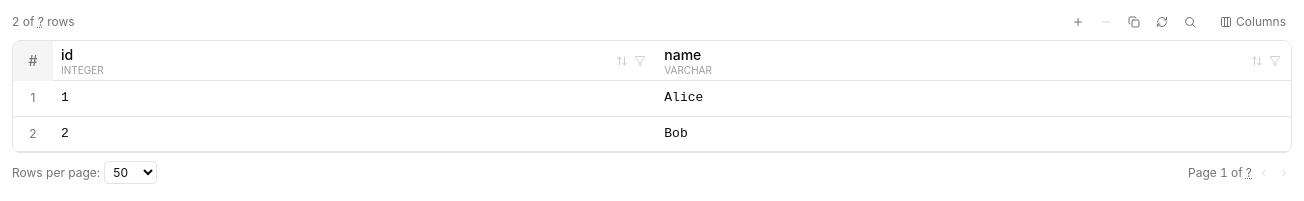
Test: DataTable › row selection › clicking row index cell selects the row
Click the 1st cell titled "Click to select" at point(33, 99), box [13,81,53,116]
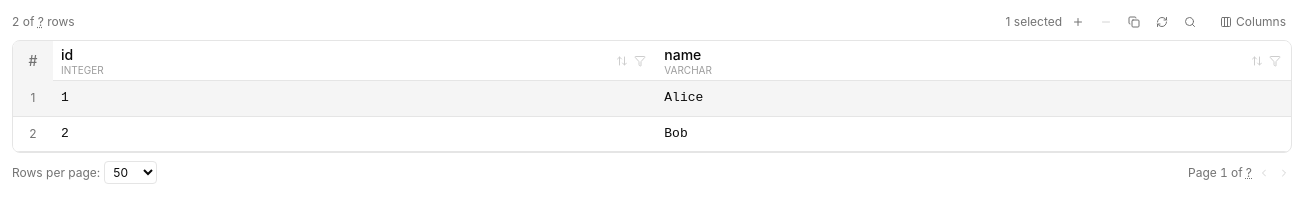
Result: the text "1 selected" is shown at [1006,14,1062,30]
